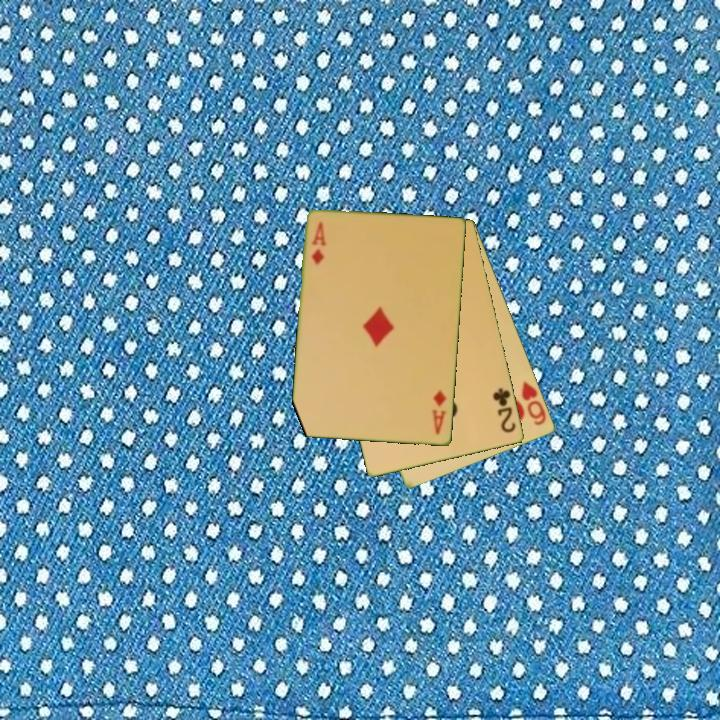2c: (489, 384, 519, 436)
6h: (518, 378, 549, 428)
Ad: (428, 387, 449, 438), (308, 218, 329, 268)
